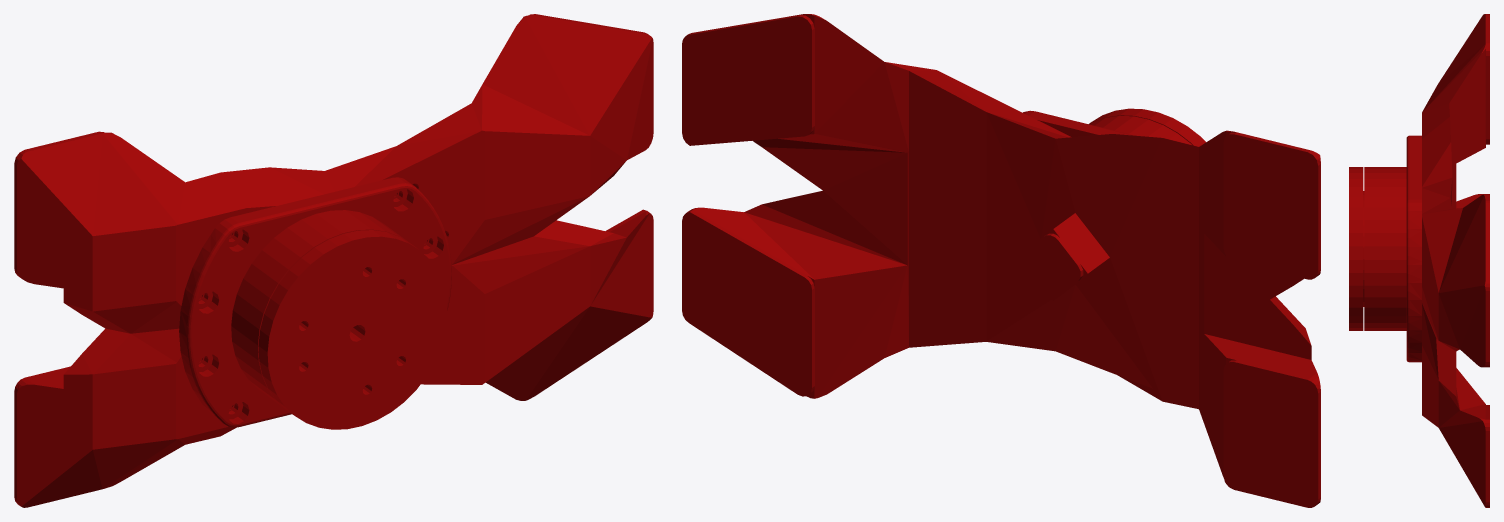
File: Foot_Link.obj
3 views of the same model, side by side, from view 1: azimuth 30°, elevation 25°; view 2: azimuth 150°, elevation 25°; view 3: azimuth 270°, elevation 25° (orthographic). The views are drawn at different scales.
Visible parts, largest first — view 1: Foot_Link; view 2: Foot_Link; view 3: Foot_Link.
Boxes of the visible parts, <box> form: Foot_Link: <box>14,14,653,507</box>; Foot_Link: <box>682,14,1320,507</box>; Foot_Link: <box>1349,14,1489,507</box>.
Bounding box in the file's own units: 0.3008 × 0.1733 × 0.073.
